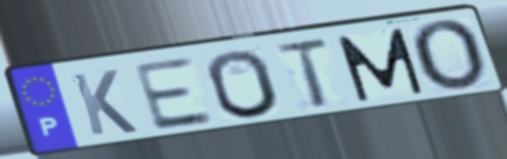E: (128, 55, 218, 134)
K: (67, 67, 141, 139)
M: (333, 25, 429, 105)
O: (407, 18, 491, 94), (203, 48, 283, 122)
T: (271, 35, 333, 112)
